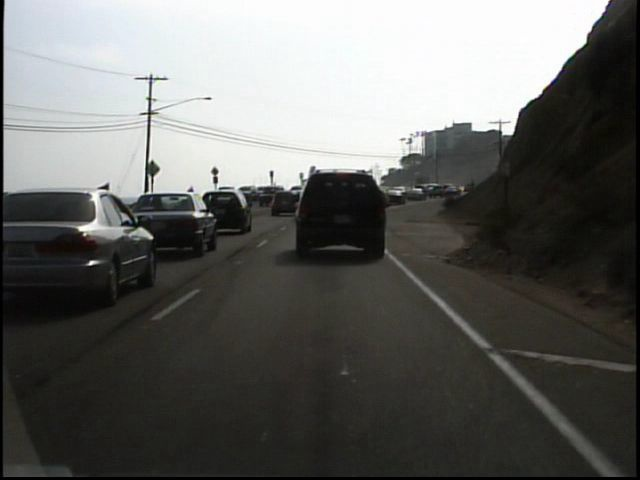person: (184, 182, 198, 193)
